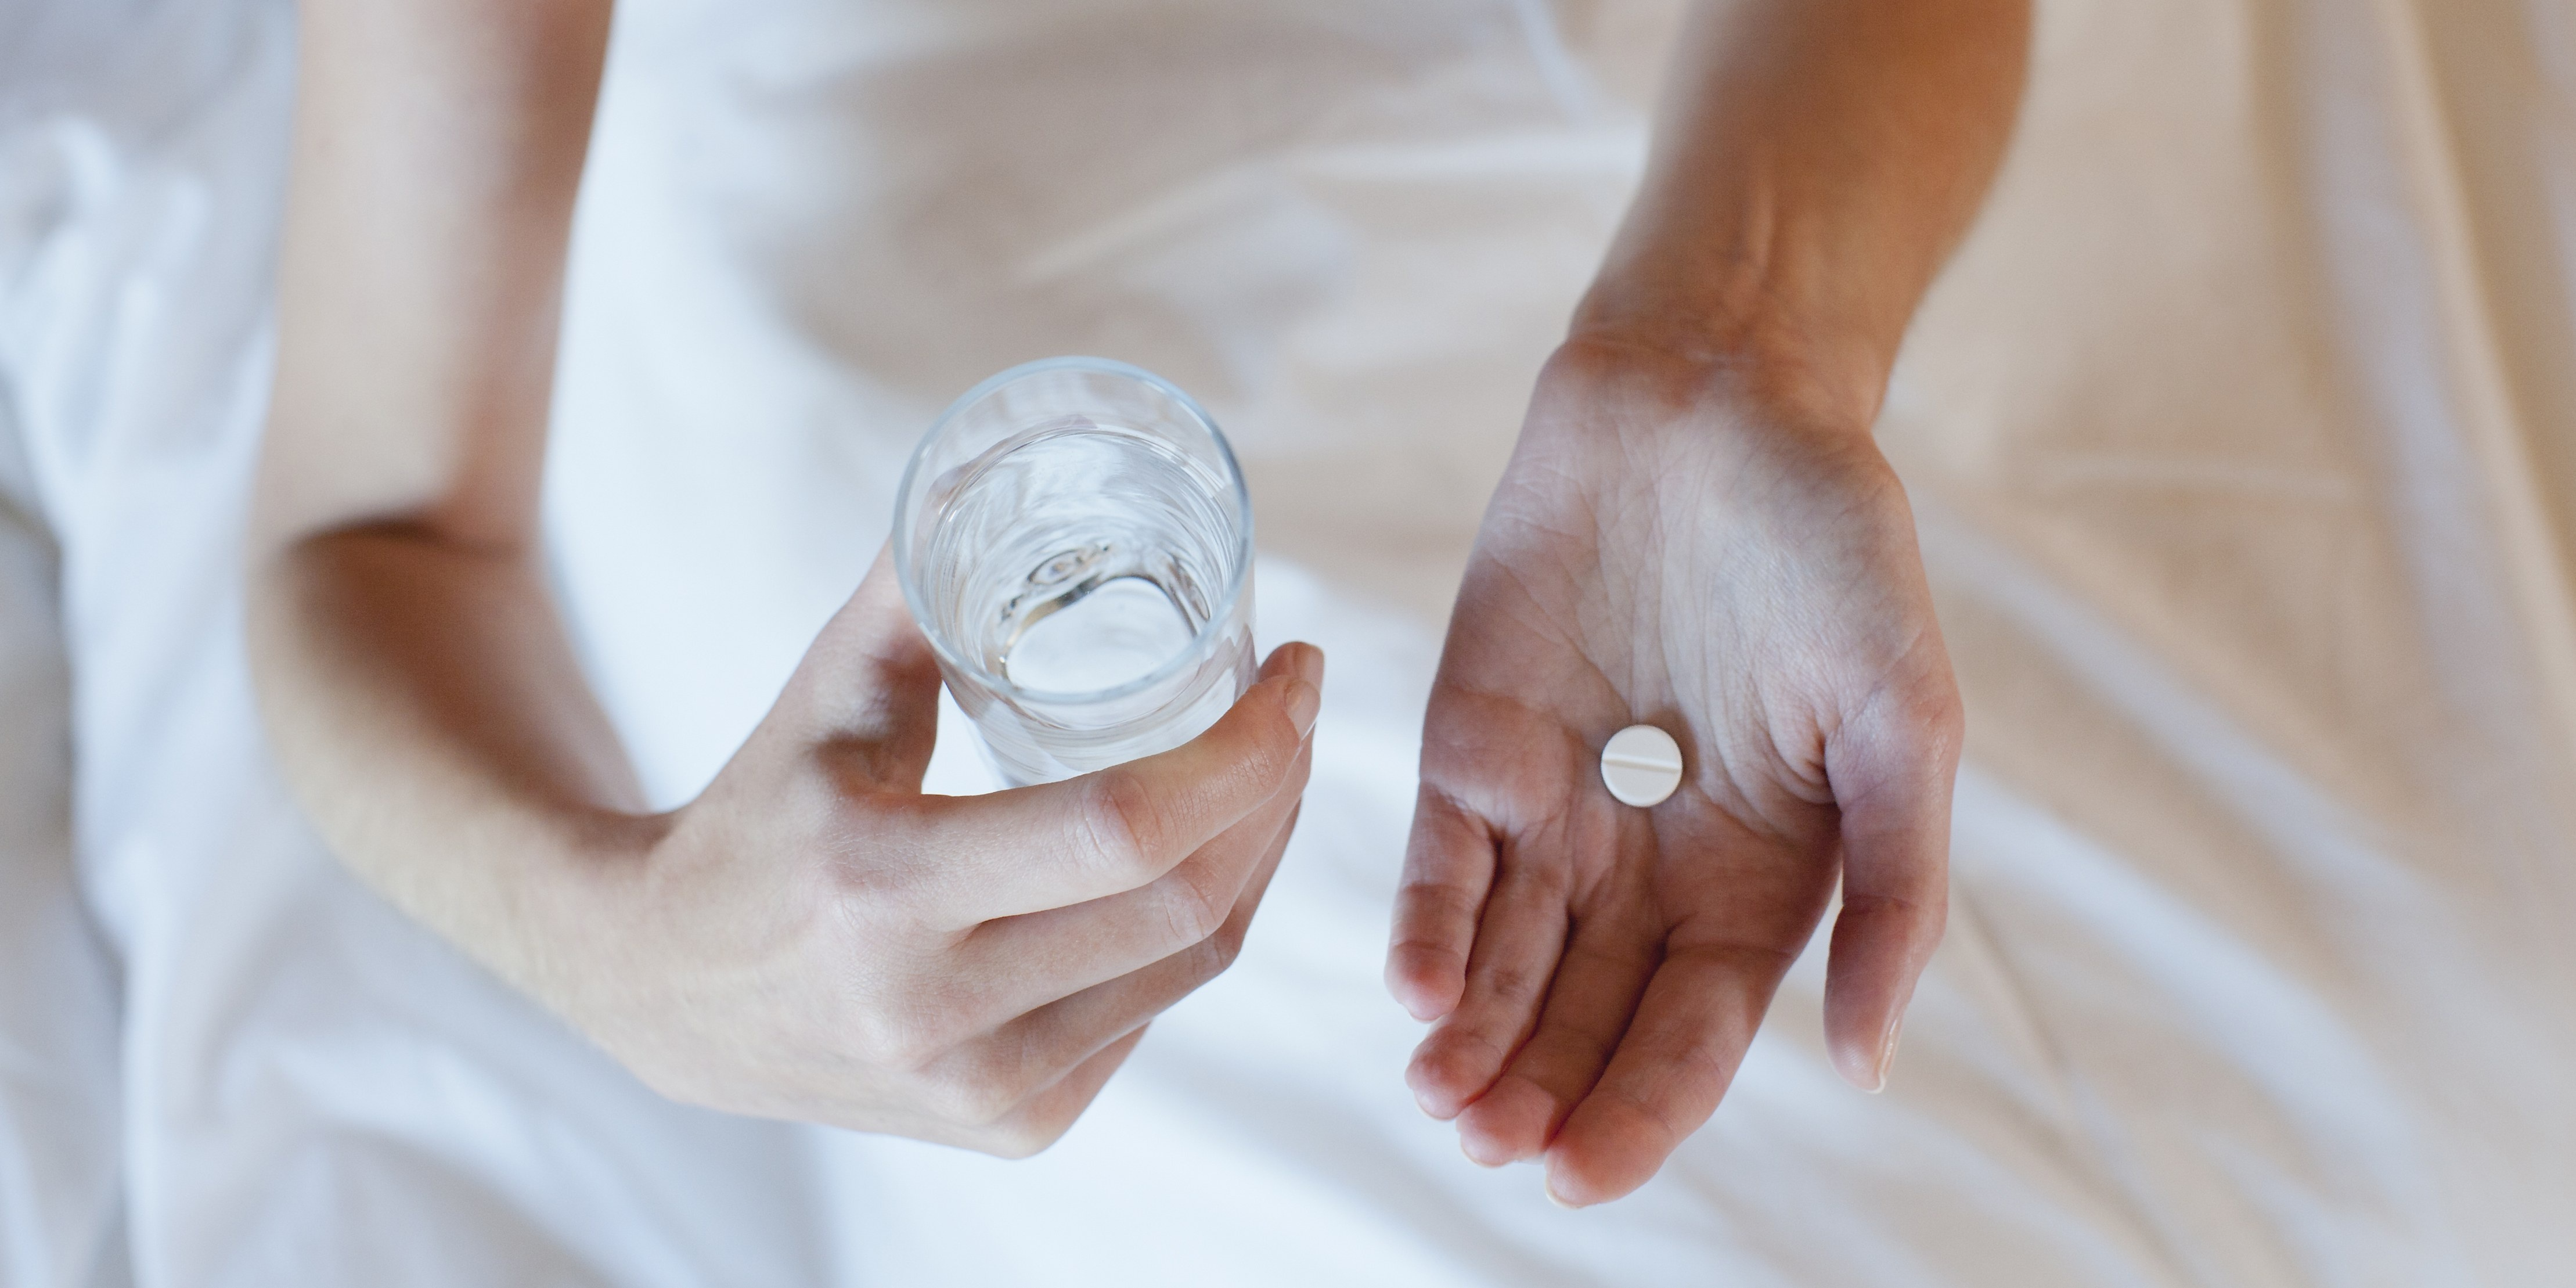pills: (1589, 700, 1710, 818)
